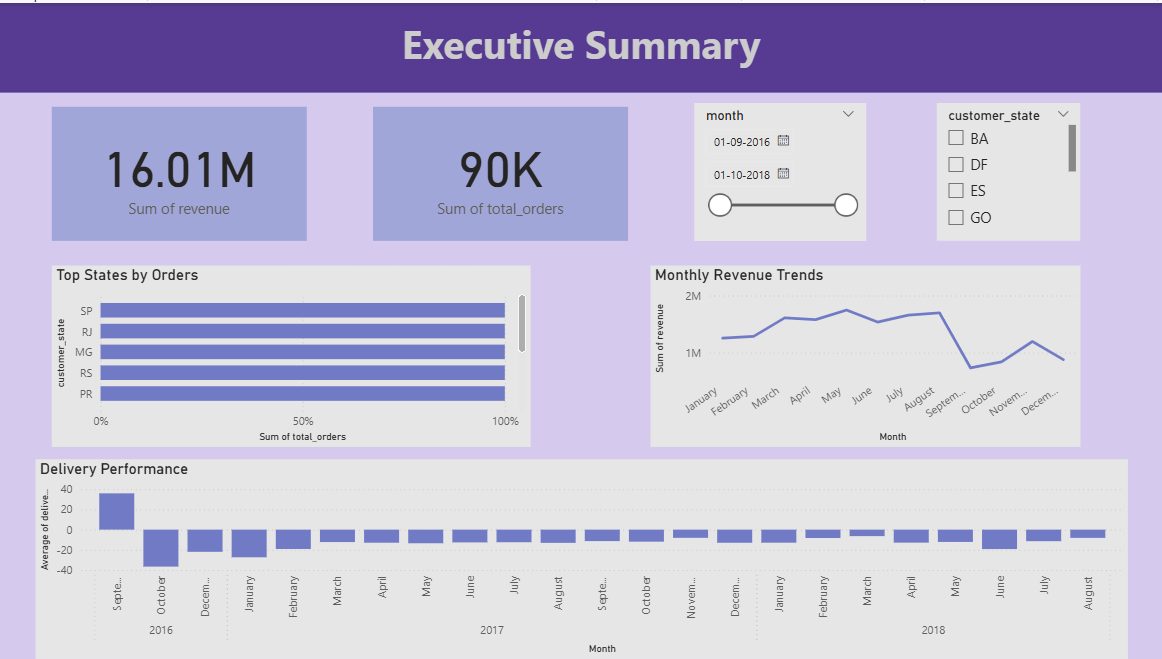

This screenshot's page, from the dashboard's own definition file:
{"tool":"powerbi","page":{"name":"Executive Overview","canvas":[1280,720],"ordinal":0},"visuals":[{"type":"card","fields":{"Values":["Sum(monthly_revenue.revenue)"]},"box":[59,113.9,279.9,146.8],"z":0},{"type":"card","fields":{"Values":["Sum(top_states.total_orders)"]},"box":[411.7,113.9,279.9,146.8],"z":1},{"type":"lineChart","title":"Monthly Revenue Trends","fields":{"Category":["monthly_revenue.month.Variation.Date Hierarchy.Month","monthly_revenue.month.Variation.Date Hierarchy.Day"],"Y":["Sum(monthly_revenue.revenue)"]},"box":[716.3,288.2,472,199],"z":2},{"type":"hundredPercentStackedBarChart","title":"Top States by Orders","fields":{"Category":["top_states.customer_state"],"Y":["Sum(top_states.total_orders)"]},"box":[59,288.2,525.6,199],"z":3},{"type":"slicer","fields":{"Values":["monthly_revenue.month"]},"box":[764.3,109.8,188,150.9],"z":4},{"type":"slicer","fields":{"Values":["top_states.customer_state"]},"box":[1030.5,109.8,157.8,150.9],"z":5},{"type":"clusteredColumnChart","title":"Delivery Performance","fields":{"Category":["orders_cleaned.order_month.Variation.Date Hierarchy.Year","orders_cleaned.order_month.Variation.Date Hierarchy.Month"],"Y":["Avg(orders_cleaned.delivery_delay_days)"]},"box":[41.2,500.9,1199.3,219.6],"z":6},{"type":"textbox","box":[0,0,1280.3,98.8],"z":7}]}

Visuals, with their boxes in screenshot pixels (x1, y1, x2, y2), scaled from the page's 1280x720 canvas onto the 1162x659 screenshot:
card - Sum(monthly_revenue.revenue): 54, 104, 308, 239
card - Sum(top_states.total_orders): 374, 104, 628, 239
"Monthly Revenue Trends" lineChart: 650, 264, 1079, 446
"Top States by Orders" hundredPercentStackedBarChart: 54, 264, 531, 446
slicer - monthly_revenue.month: 694, 100, 865, 239
slicer - top_states.customer_state: 936, 100, 1079, 239
"Delivery Performance" clusteredColumnChart: 37, 458, 1126, 658
textbox: 0, 0, 1161, 90
